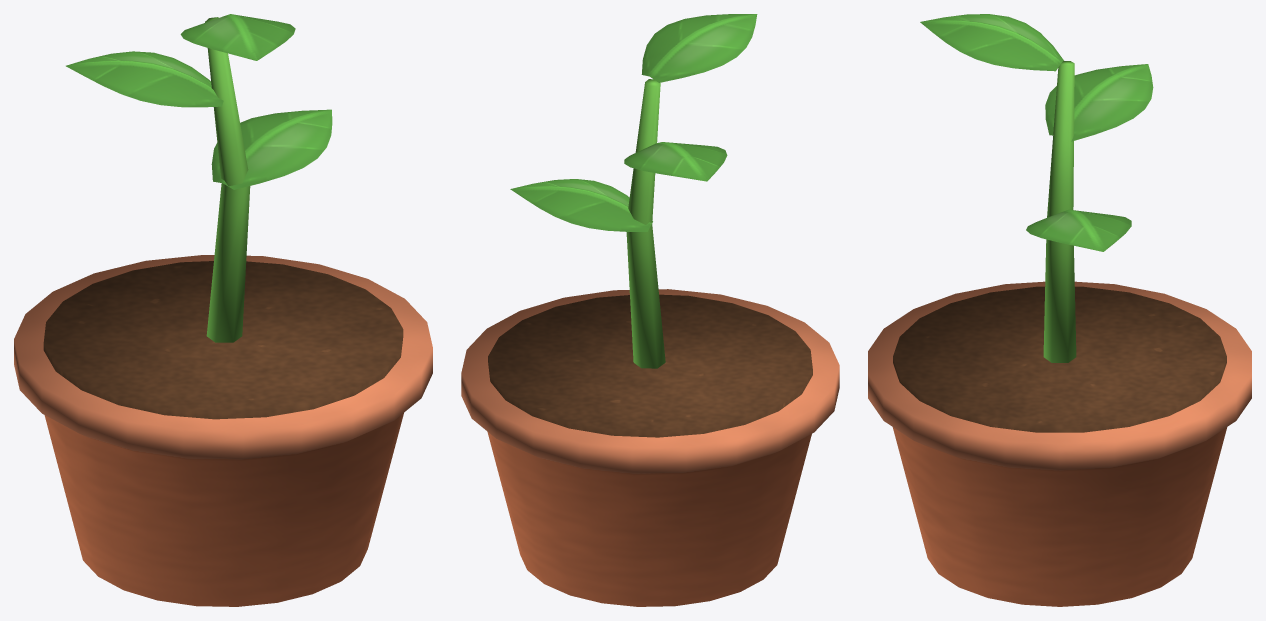
The model's file is sapling.glb.
3 views of the same model, side by side, from view 1: azimuth 30°, elevation 25°; view 2: azimuth 150°, elevation 25°; view 3: azimuth 270°, elevation 25° (orthographic). The views are drawn at different scales.
Parts seen in each view (by area): view 1: Sapling; view 2: Sapling; view 3: Sapling.
Boxes of the visible parts, x1,y1,x2,y2 form: Sapling: (14, 14, 432, 606); Sapling: (461, 14, 839, 606); Sapling: (868, 14, 1251, 606).
Size of the model in its own units: 0.58 by 0.8515 by 0.5741.
Materials: 1 (1 with a texture image).
